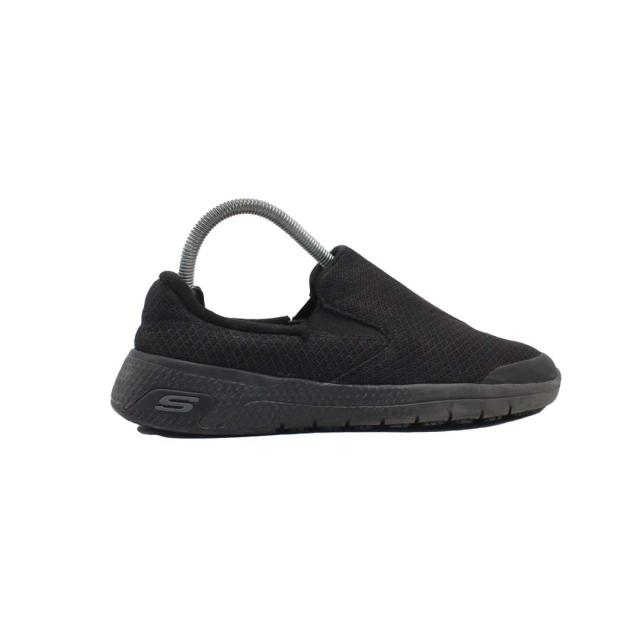heel: (119, 234, 175, 354)
midsole: (108, 349, 564, 438)
uppersole: (178, 239, 562, 386)
